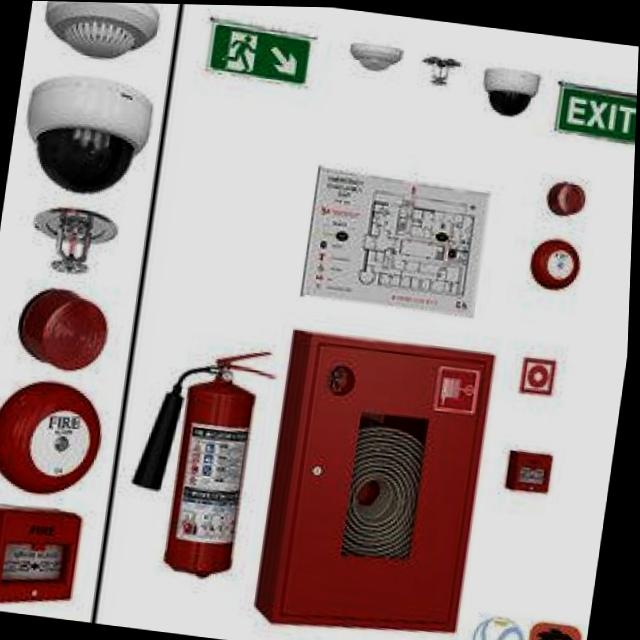FireExtinguisher: (117, 329, 284, 584)
